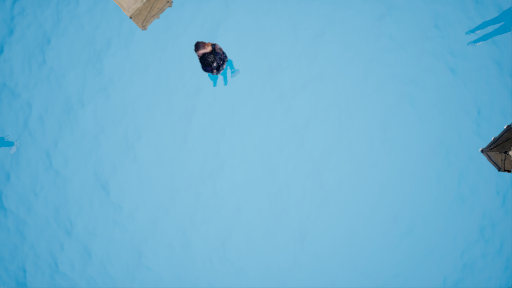person: (193, 41, 246, 90)
